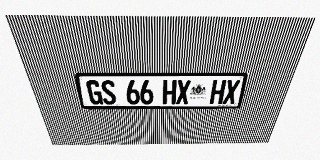6: (125, 80, 140, 104), (139, 80, 153, 104)
G: (85, 80, 103, 105)
H: (209, 80, 227, 104), (163, 80, 177, 104)
S: (100, 80, 117, 105)
X: (222, 80, 240, 104), (176, 80, 191, 104)
